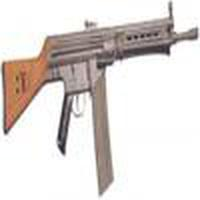gun: (3, 20, 199, 146)
